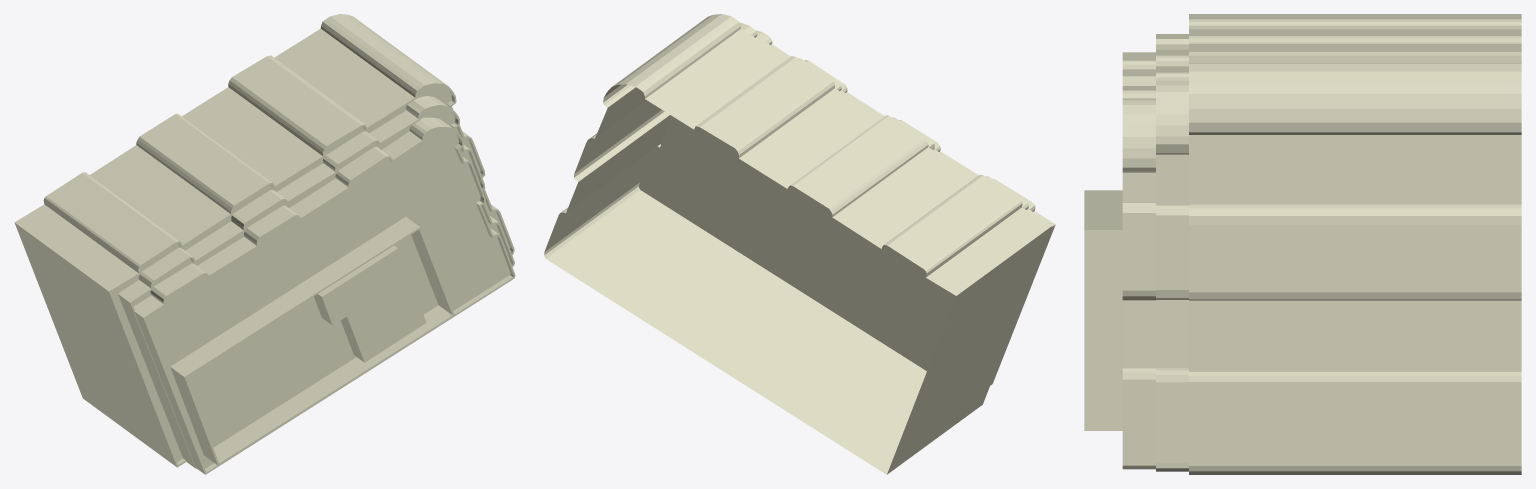
File: 350 Boylston Street_Proj1312.obj
The picture shows the model from 3 angles, left to right: view 1: azimuth 30°, elevation 25°; view 2: azimuth 150°, elevation 25°; view 3: azimuth 270°, elevation 25°; orthographic projection. The views are drawn at different scales.
Parts seen in each view (by area): view 1: Mesh5 BOS_4AKJ5K9 Model, Mesh2 BOS_4AKJ5K9 Model, Mesh3 BOS_4AKJ5K9 Model, Mesh1 BOS_4AKJ5K9 Model, Mesh4 BOS_4AKJ5K9 Model; view 2: Mesh5 BOS_4AKJ5K9 Model, Mesh1 BOS_4AKJ5K9 Model, Mesh2 BOS_4AKJ5K9 Model; view 3: Mesh5 BOS_4AKJ5K9 Model, Mesh1 BOS_4AKJ5K9 Model, Mesh2 BOS_4AKJ5K9 Model, Mesh3 BOS_4AKJ5K9 Model.
Part boxes in pixels (x1,y1,x2,y2): Mesh5 BOS_4AKJ5K9 Model: (14, 14, 514, 467); Mesh2 BOS_4AKJ5K9 Model: (134, 117, 515, 474); Mesh3 BOS_4AKJ5K9 Model: (170, 217, 454, 465); Mesh1 BOS_4AKJ5K9 Model: (118, 96, 514, 468); Mesh4 BOS_4AKJ5K9 Model: (314, 245, 426, 362); Mesh5 BOS_4AKJ5K9 Model: (544, 14, 1051, 474); Mesh1 BOS_4AKJ5K9 Model: (647, 23, 1049, 372); Mesh2 BOS_4AKJ5K9 Model: (756, 30, 1055, 385); Mesh5 BOS_4AKJ5K9 Model: (1189, 14, 1521, 474); Mesh1 BOS_4AKJ5K9 Model: (1156, 34, 1188, 471); Mesh2 BOS_4AKJ5K9 Model: (1122, 52, 1155, 469); Mesh3 BOS_4AKJ5K9 Model: (1084, 190, 1122, 430).
Size of the model in its own units: 248 by 188 by 131.
